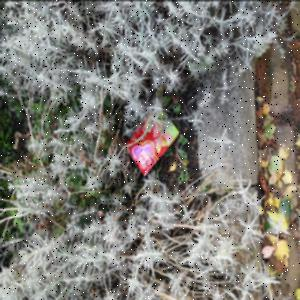Trash: (126, 105, 184, 178)
